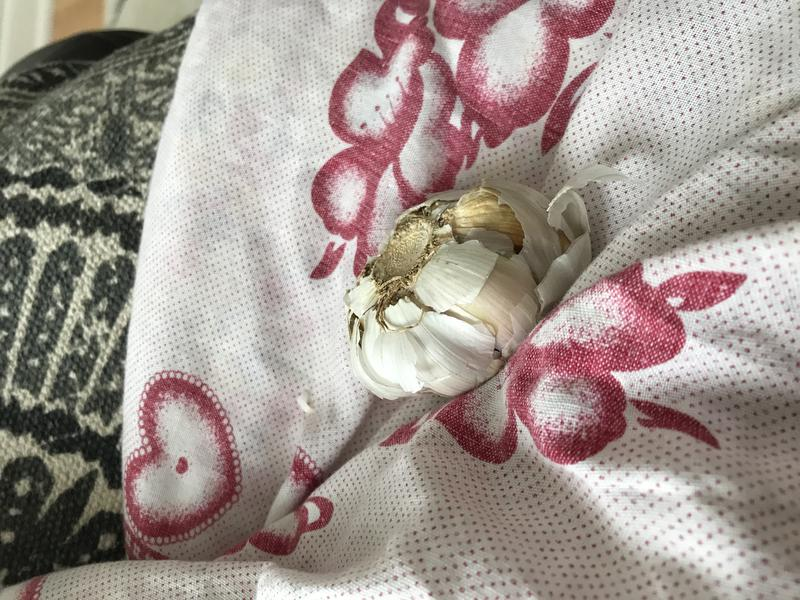garlic: (339, 172, 579, 411)
